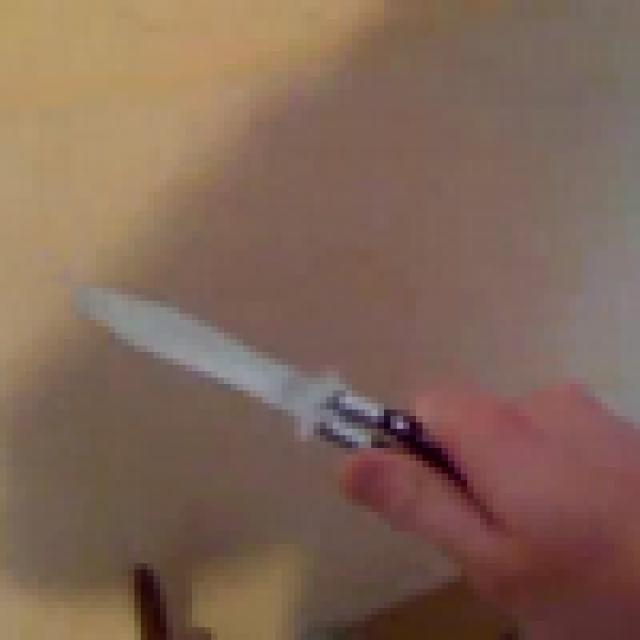Knife: (51, 262, 461, 544)
